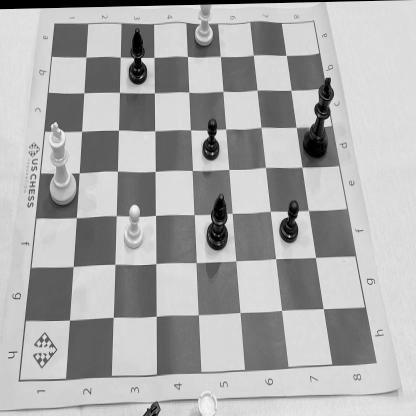black-bishop: (204, 190, 233, 253), (127, 21, 152, 89)
black-king: (301, 67, 339, 161)
black-pawn: (277, 194, 300, 247), (201, 113, 221, 161)
white-bishop: (192, 4, 217, 51)
white-king: (42, 114, 78, 210)
white-pawn: (120, 197, 148, 251)
